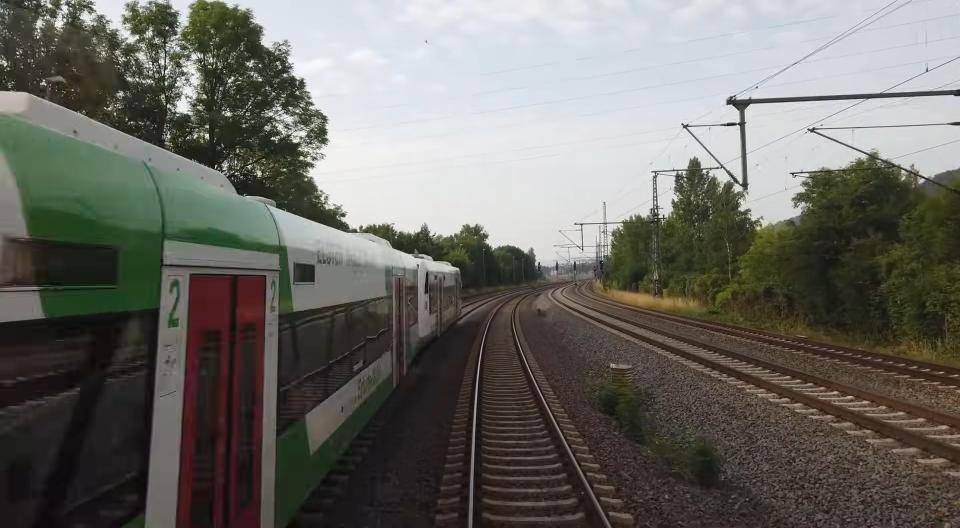Plant: (688, 437, 720, 488), (616, 394, 644, 442), (596, 385, 620, 416)
